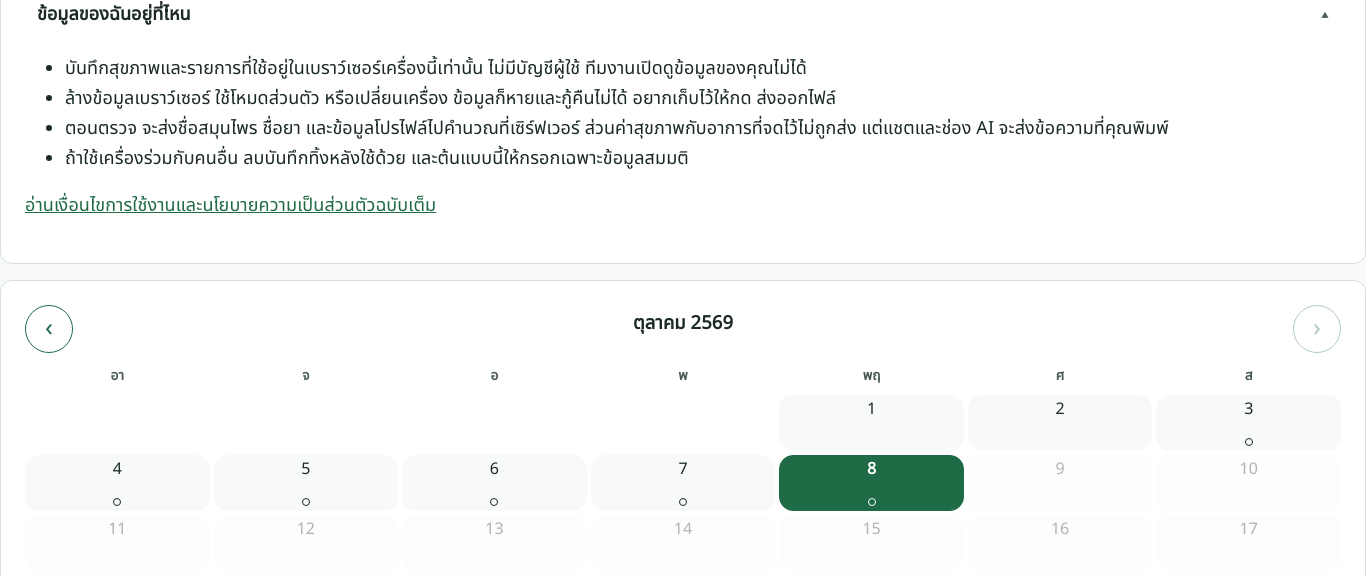
it: ปุ่มเดือนก่อนหน้า/กลับไปวันนี้ และสรุปรายเดือนนับเฉพาะที่จดเอง ไม่มีคำแปลผล
Click the button named "เดือนก่อนหน้า".
click(49, 329)  # box [25,305,73,353]
(page scrolled)
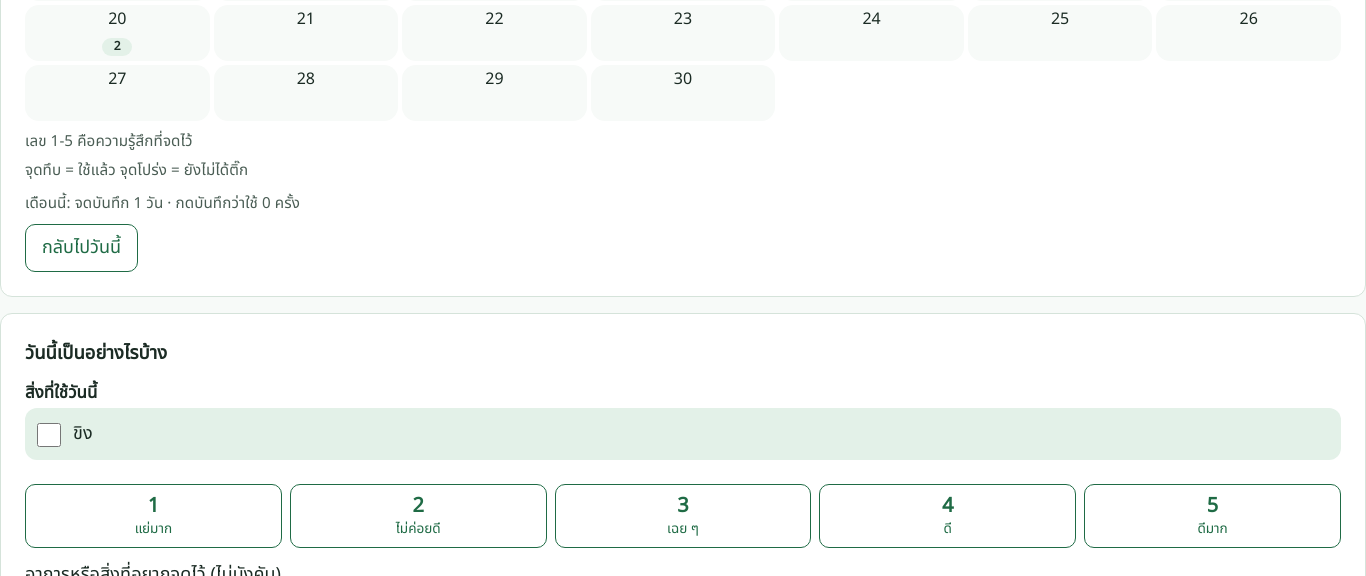
Check: the text "เดือนนี้: จดบันทึก 1 วัน · กดบันทึกว่าใช้ 0 ครั้ง" is shown, box [25,192,300,215]
Click the button "กลับไปวันนี้".
click(82, 248)  # box [25,224,138,272]
(page scrolled)
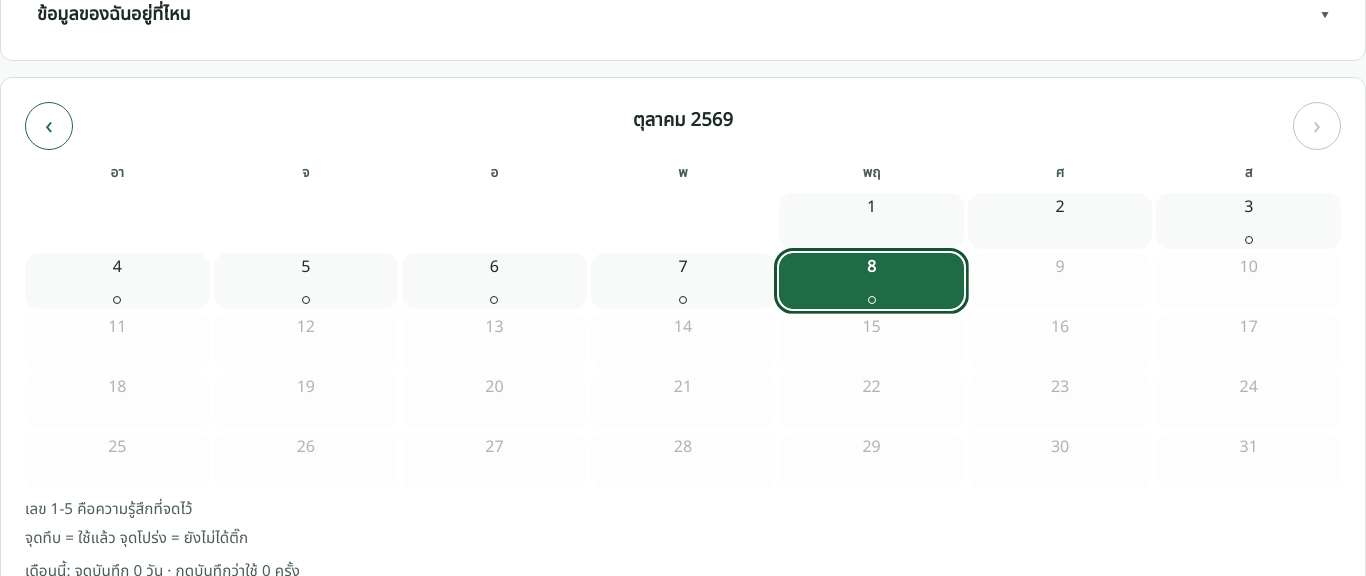
Check: the heading "ตุลาคม 2569" is shown, box [633,106,733,134]
